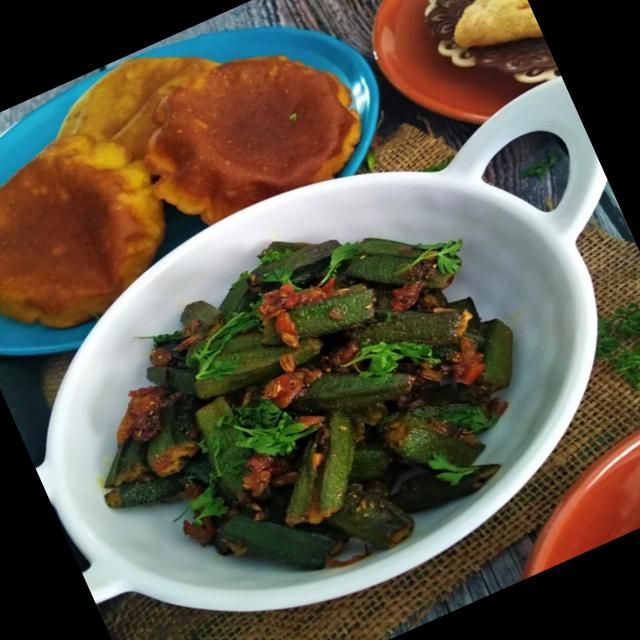BhindiMasala: (39, 164, 576, 640)
